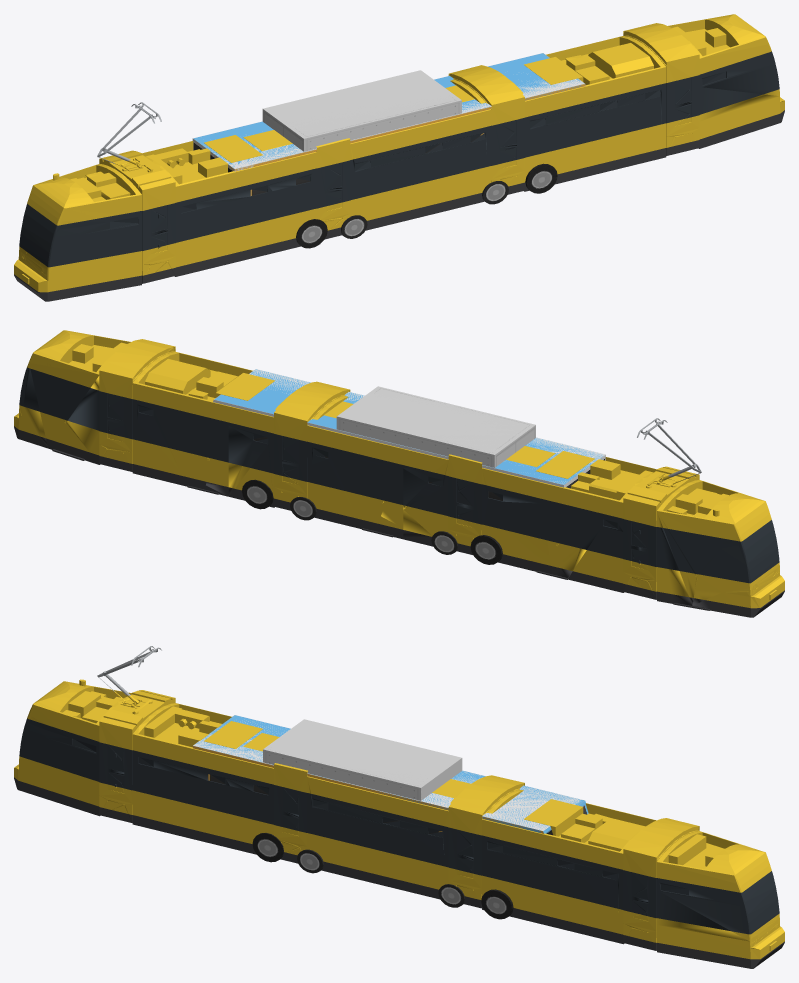
The model's file is vehicles.glb.
The picture shows the model from 3 angles, top to bottom: view 1: azimuth 30°, elevation 25°; view 2: azimuth 150°, elevation 25°; view 3: azimuth 330°, elevation 25°; orthographic projection.
Visible parts, largest first — view 1: tram, truck_3, bus_3, bus_1, truck_1, truck_2, bus_2; view 2: tram, truck_3, bus_1, bus_3, truck_1, truck_2; view 3: tram, truck_3, bus_1, bus_3, truck_2, bus_2, truck_1.
Boxes of the visible parts, x1,y1,x2,y2 form: tram: (14, 14, 784, 301); truck_3: (263, 70, 501, 235); bus_3: (193, 53, 584, 236); bus_1: (192, 74, 584, 245); truck_1: (274, 96, 508, 238); truck_2: (262, 100, 493, 227); bus_2: (210, 84, 585, 248); tram: (14, 330, 784, 617); truck_3: (299, 387, 535, 552); bus_1: (213, 369, 605, 564); bus_3: (214, 369, 603, 541); truck_1: (290, 386, 535, 554); truck_2: (290, 416, 500, 548); tram: (14, 646, 784, 968); truck_3: (264, 719, 461, 885); bus_1: (193, 719, 581, 919); bus_3: (195, 715, 588, 912); truck_2: (263, 720, 463, 904); bus_2: (193, 746, 543, 917); truck_1: (263, 747, 464, 907).
Size of the model in its own units: 24.2 by 4.89 by 2.55.
17 materials, 12 textured.
